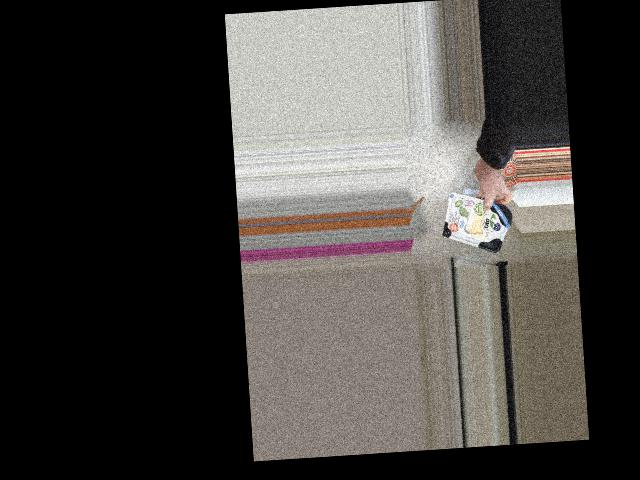cheese: (441, 195, 511, 246)
